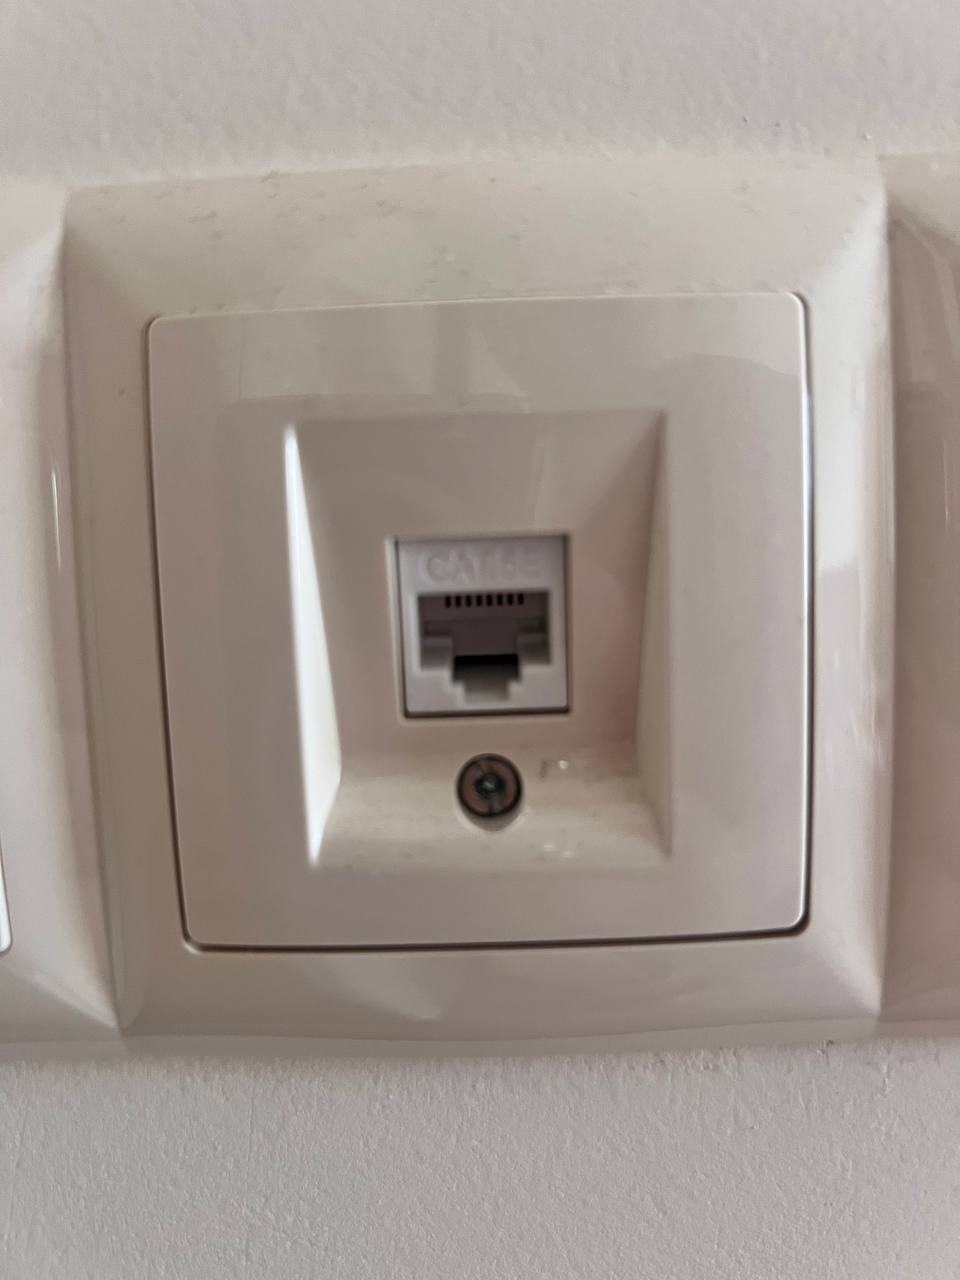Network Outlet: (61, 198, 885, 1031)
